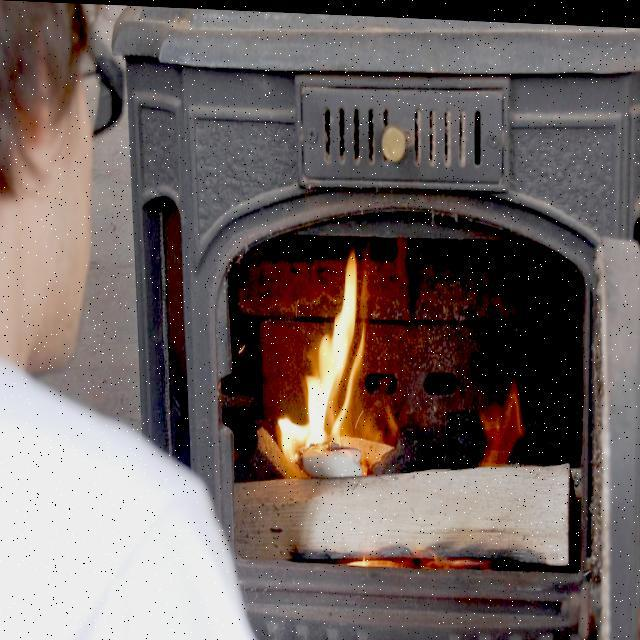Fire: (277, 237, 398, 478)
